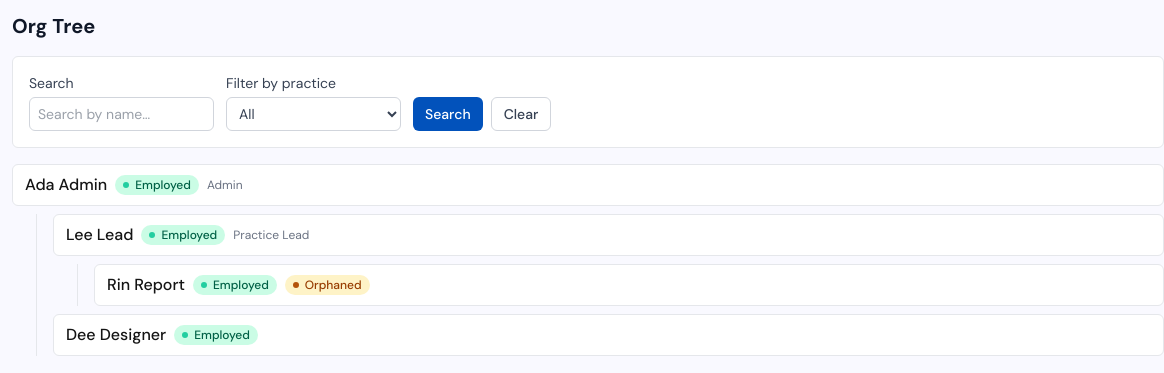
Scenario: OrgTreePage › filters by practice, listing only practices actually present in the tree
Expected: the link "Ada Admin" is shown, [25, 173, 107, 197]
Select "Design" in the dropdown labelled "Filter by practice" at (314, 114), box [226, 97, 401, 131]
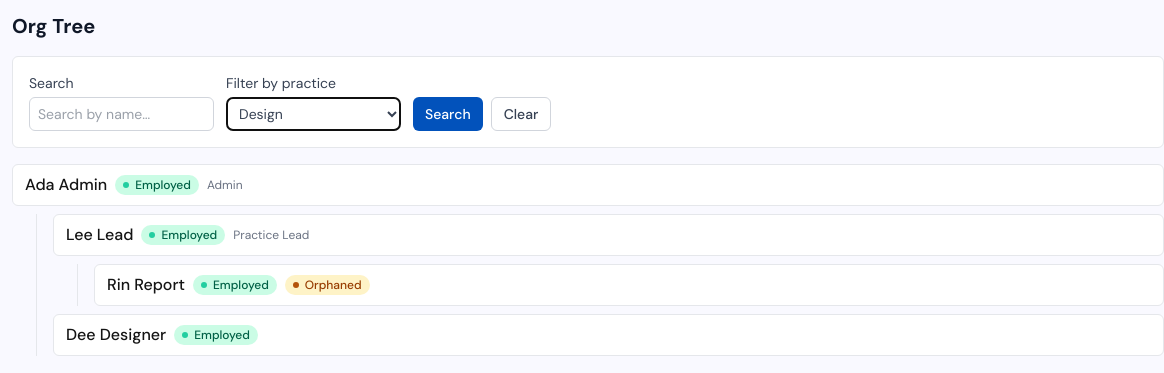
Click the button "Search" at (448, 114), box [413, 97, 483, 131]
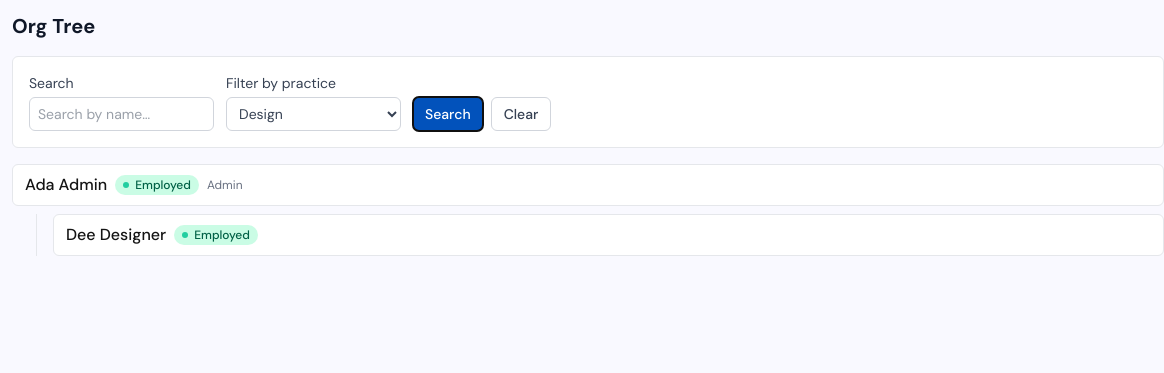
Expected: the link "Dee Designer" is shown, [66, 223, 166, 247]
Expected: the link "Rin Report" is gone
